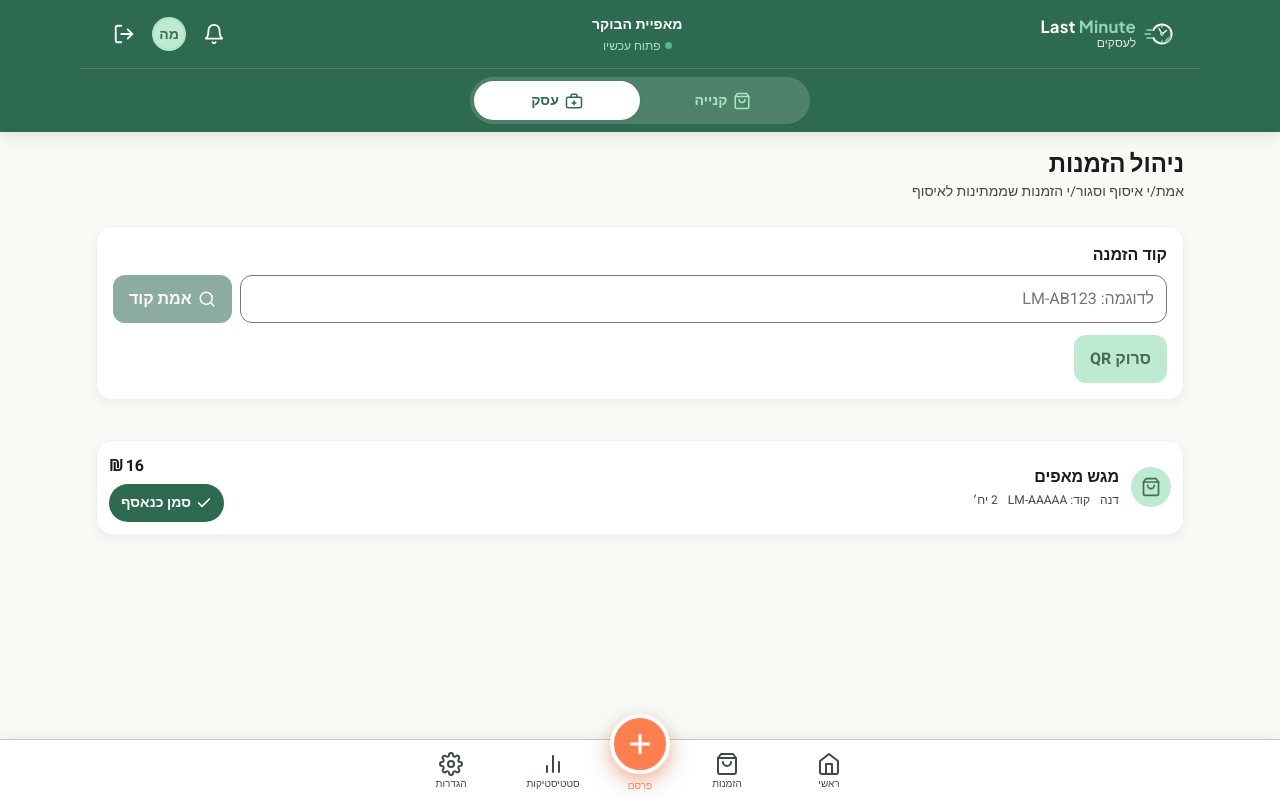
Test: B2BOrdersPage — pending list › marks an order collected and removes it from the open list
Click the button "סמן כנאסף" at (166, 503), box [109,484,224,522]
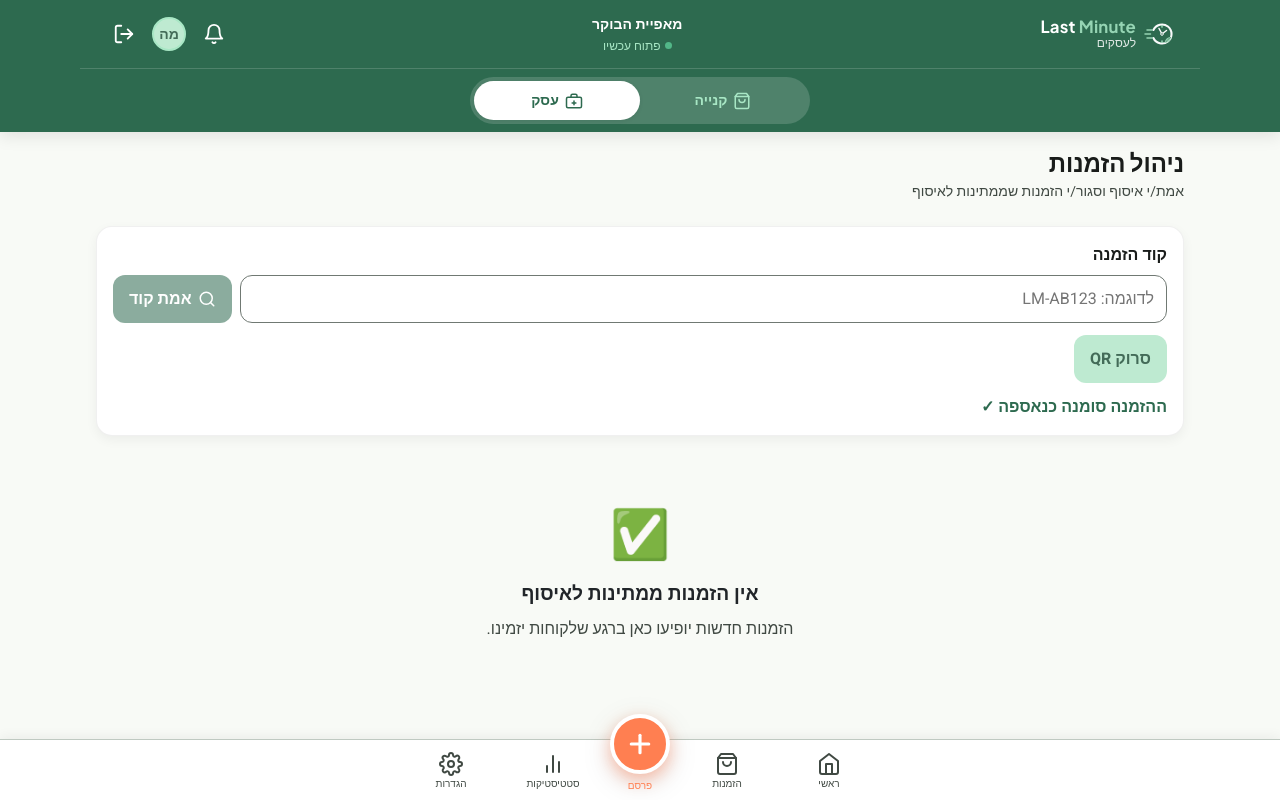
Expected: the text "מגש מאפים" is gone
Expected: the text "ההזמנה סומנה כנאספה ✓" is shown, [981,395,1167,419]
